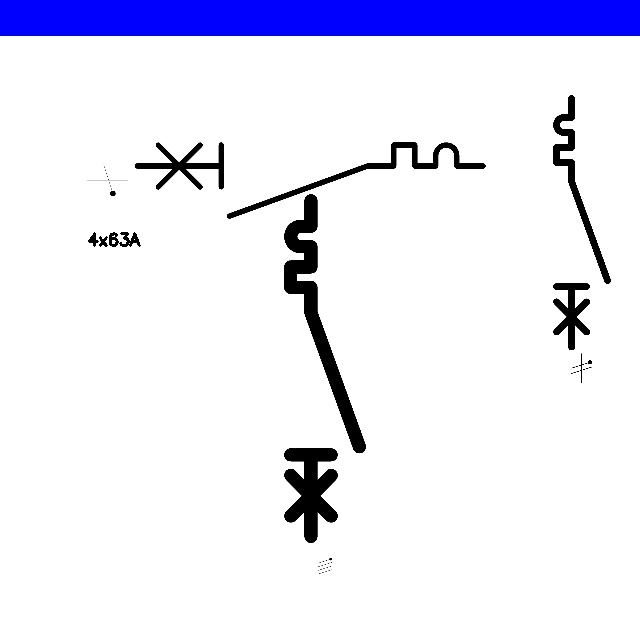interruptor_termomagnetico: (128, 136, 492, 225), (282, 192, 368, 545), (550, 92, 614, 353)
